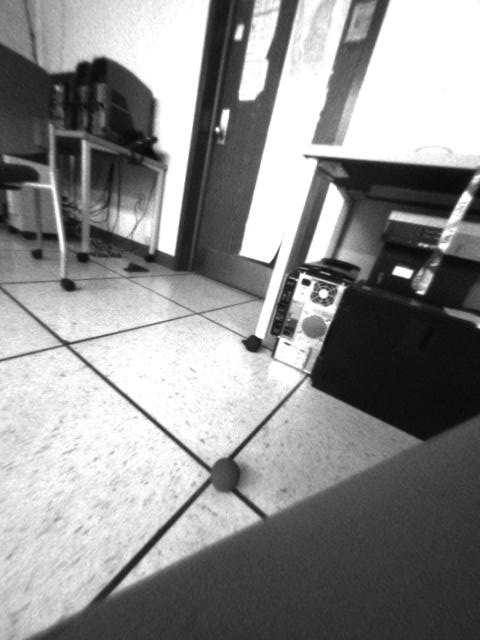dogtoy: (195, 451, 253, 503)
